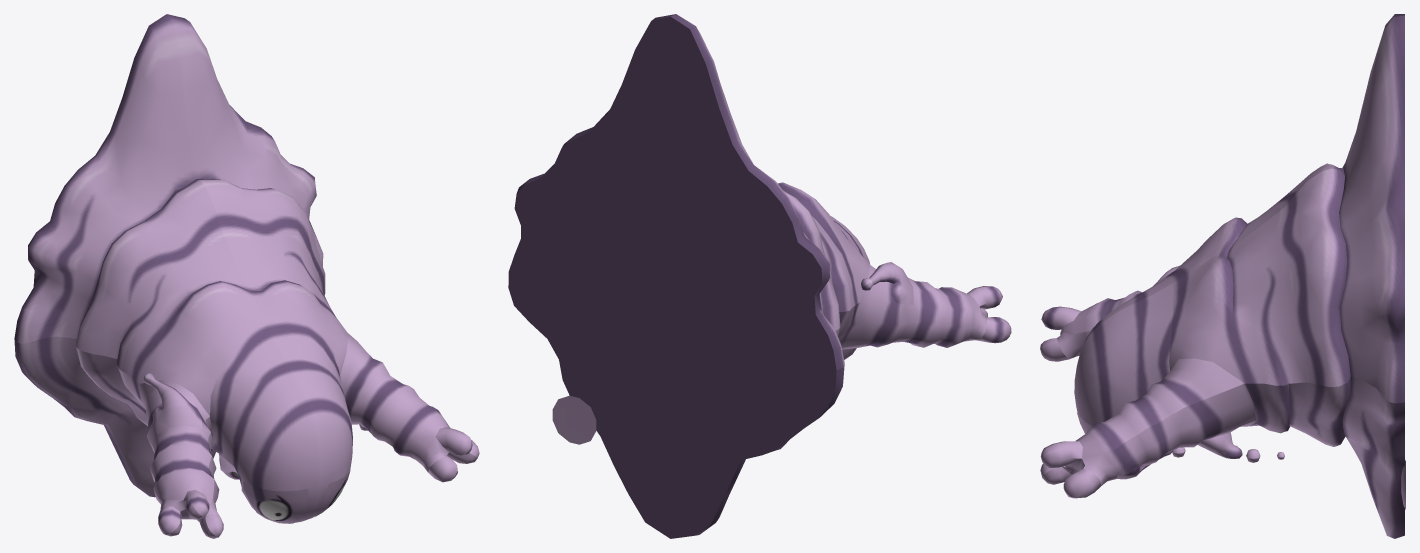
The model's file is Grimer.glb.
3 renders of one model, left to right at view 1: azimuth 30°, elevation 25°; view 2: azimuth 150°, elevation 25°; view 3: azimuth 270°, elevation 25°, orthographic. The views are drawn at different scales.
Visible parts, largest first — view 1: mesh_1_pm0088_00_BodySkin, mesh_2_pm0088_00_BodySkin, mesh_7_pm0088_00_EyeSkin; view 2: mesh_1_pm0088_00_BodySkin, mesh_2_pm0088_00_BodySkin, mesh_5_pm0088_00_LiquidBSkin; view 3: mesh_1_pm0088_00_BodySkin, mesh_2_pm0088_00_BodySkin.
Part boxes in pixels (x1,y1,x2,y2): mesh_1_pm0088_00_BodySkin: [14, 14, 347, 497]; mesh_2_pm0088_00_BodySkin: [140, 333, 479, 538]; mesh_7_pm0088_00_EyeSkin: [243, 469, 350, 523]; mesh_1_pm0088_00_BodySkin: [508, 14, 869, 538]; mesh_2_pm0088_00_BodySkin: [830, 216, 1011, 359]; mesh_5_pm0088_00_LiquidBSkin: [552, 395, 596, 444]; mesh_1_pm0088_00_BodySkin: [1169, 14, 1404, 538]; mesh_2_pm0088_00_BodySkin: [1040, 265, 1255, 498].
Bounding box in the file's own units: 130 × 190 × 121.
7 materials, 7 textured.
